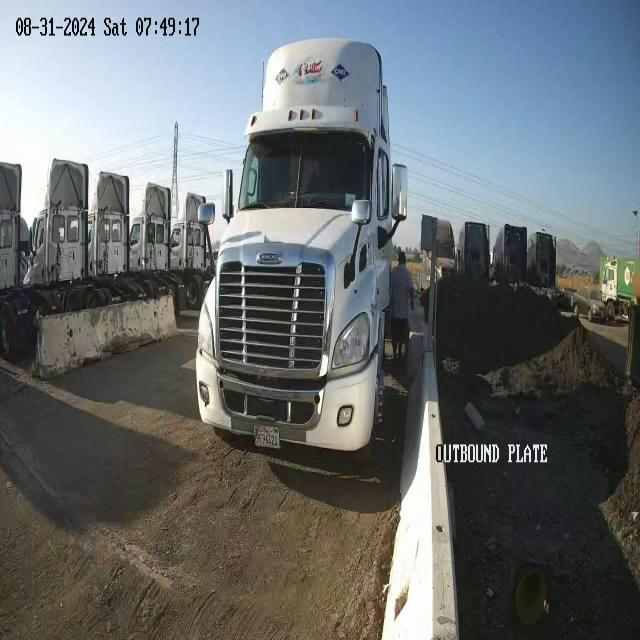TRUCK_OUT: (195, 36, 408, 457)
